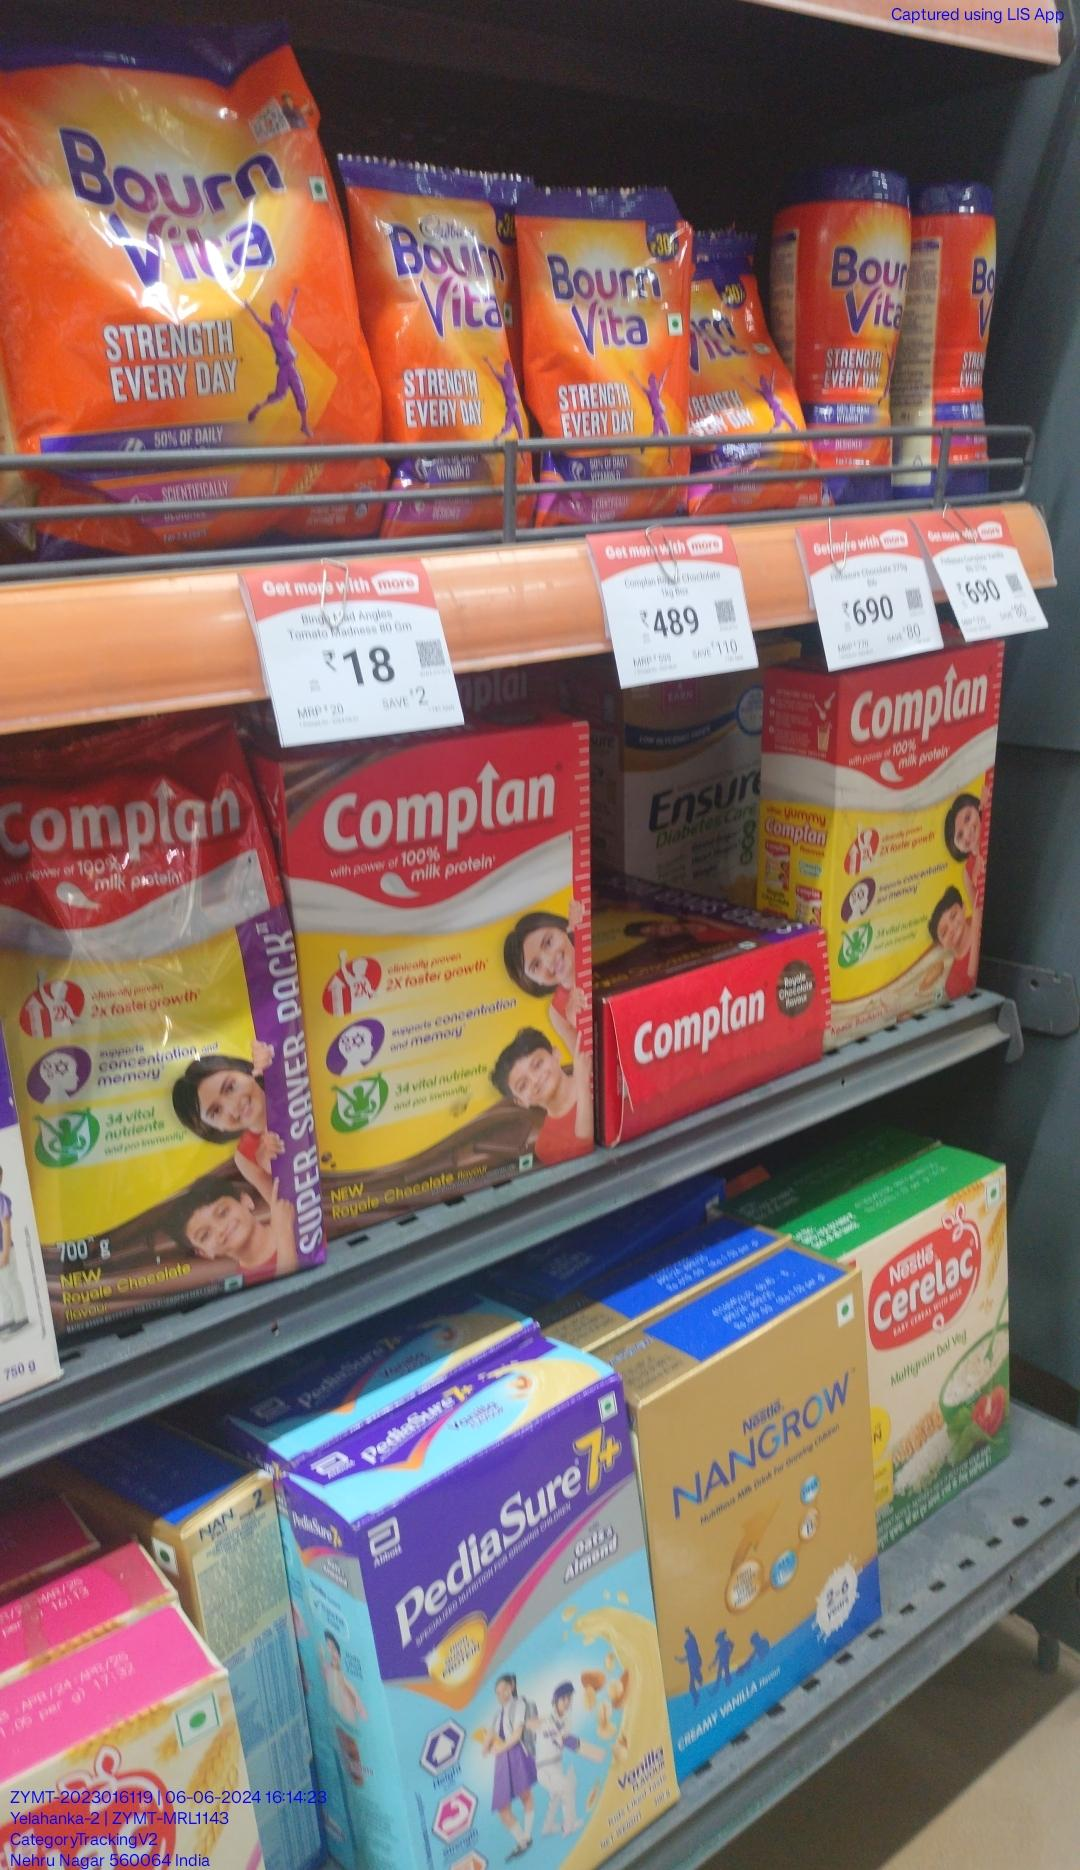BOURN_VITA_200_G_JAR: (813, 165, 913, 510), (918, 179, 1000, 505)
BOURN_VITA_500_G_POUCH: (12, 35, 359, 581)
BOURN_VITA_75_G_POUCH: (369, 162, 522, 544), (535, 190, 692, 522), (697, 230, 805, 514)
COMPLAN_CHOCOLATE_500_GMS_PACK: (288, 729, 595, 1236)
COMPLAN_KESAR_BADAM_500_GMS_PACK: (832, 648, 996, 1033)
COMPLAN_RC_POUCH_700_GMS_12: (5, 715, 273, 1316)
